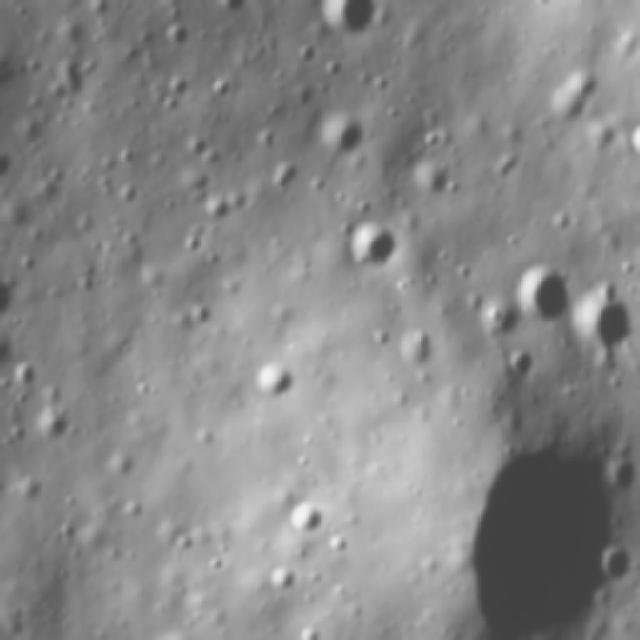crater: (449, 423, 640, 640), (568, 285, 637, 352), (303, 0, 386, 54), (514, 262, 569, 324), (343, 222, 409, 273), (314, 110, 375, 158), (244, 357, 296, 412), (394, 323, 438, 374), (545, 80, 593, 126), (35, 401, 77, 448), (258, 561, 304, 601), (411, 162, 451, 207), (601, 544, 640, 586), (288, 498, 327, 539), (606, 453, 640, 498), (0, 274, 26, 326), (505, 346, 538, 386), (162, 23, 196, 60), (324, 526, 356, 560), (211, 0, 250, 18), (629, 111, 640, 169)
